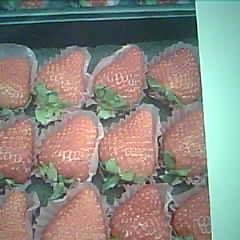straw-ripe: (102, 109, 159, 180), (41, 114, 99, 182), (45, 188, 107, 240), (114, 183, 170, 240), (165, 108, 206, 183), (95, 50, 146, 108), (39, 49, 89, 108), (151, 48, 200, 105), (1, 119, 35, 183)
